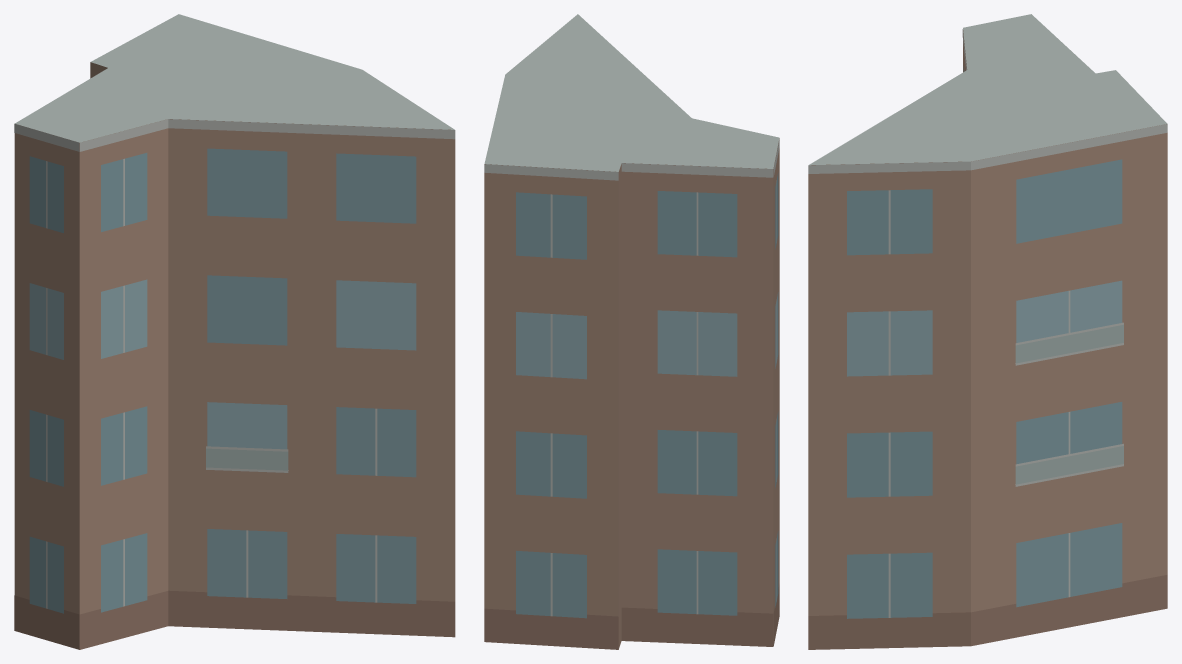
The model's file is survey-upis-33034719.glb.
3 renders of one model, left to right at view 1: azimuth 30°, elevation 25°; view 2: azimuth 150°, elevation 25°; view 3: azimuth 270°, elevation 25°, orthographic. The views are drawn at different scales.
Visible parts, largest first — view 1: survey-upis-33034719.tmp; view 2: survey-upis-33034719.tmp; view 3: survey-upis-33034719.tmp.
Boxes of the visible parts, x1,y1,x2,y2 form: survey-upis-33034719.tmp: [14, 14, 455, 649]; survey-upis-33034719.tmp: [484, 14, 779, 649]; survey-upis-33034719.tmp: [808, 14, 1167, 649].
Bounding box in the file's own units: 8.91 × 13.3 × 8.94.
